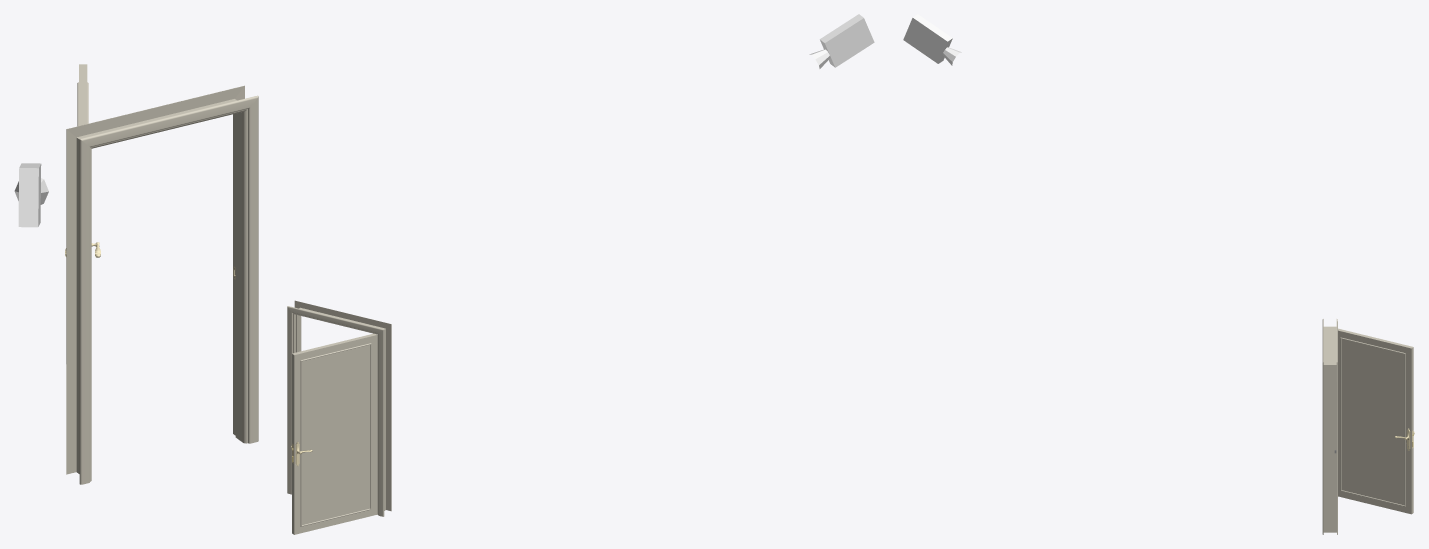
The model's file is door.glb.
3 views of the same model, side by side, from view 1: azimuth 30°, elevation 25°; view 2: azimuth 150°, elevation 25°; view 3: azimuth 270°, elevation 25° (orthographic). The views are drawn at different scales.
Visible parts, largest first — view 1: Material2 (×3); view 2: Material2 (×4); view 3: Material2 (×4).
Boxes of the visible parts, box(x1,y1,x2,y2) form: Material2 (×3): box(18, 64, 258, 484); Material2 (×4): box(287, 14, 874, 534); Material2 (×4): box(903, 14, 1413, 534).
Bounding box in the file's own units: 153 × 163 × 207.
